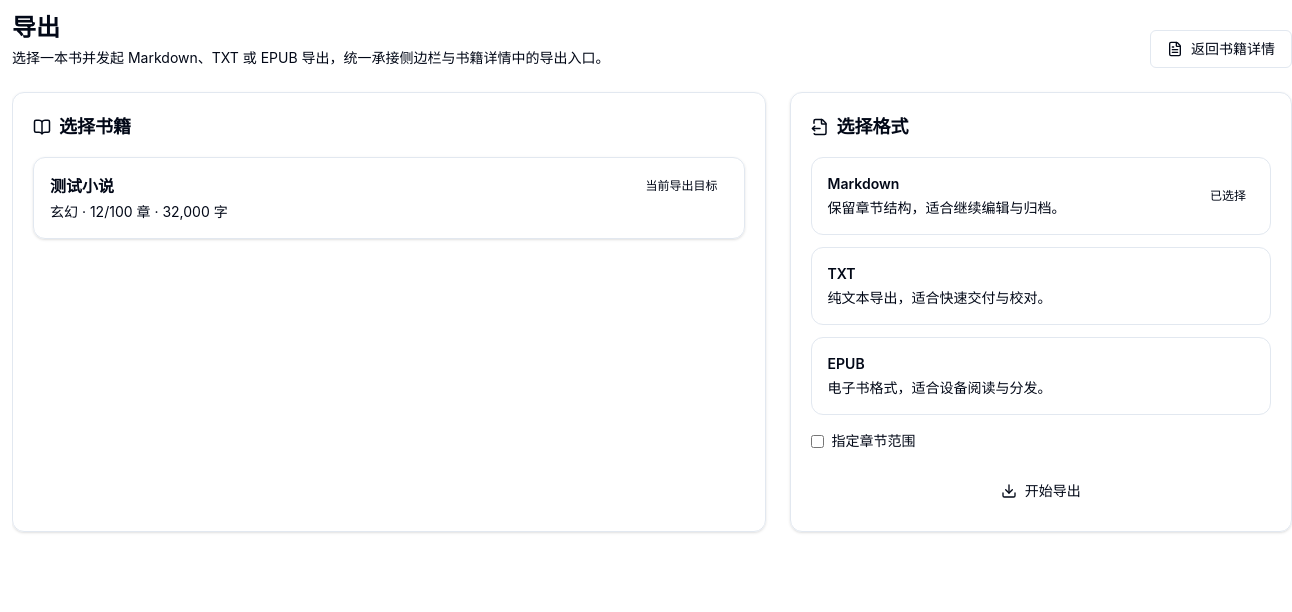
Test case: ExportView › starts export for the selected book and format
Check: the text "测试小说" is shown, box 50,176 -> 114,196
Click the button "TXT 纯文本导出，适合快速交付与校对。": [1041, 286] box 811,247 -> 1271,325
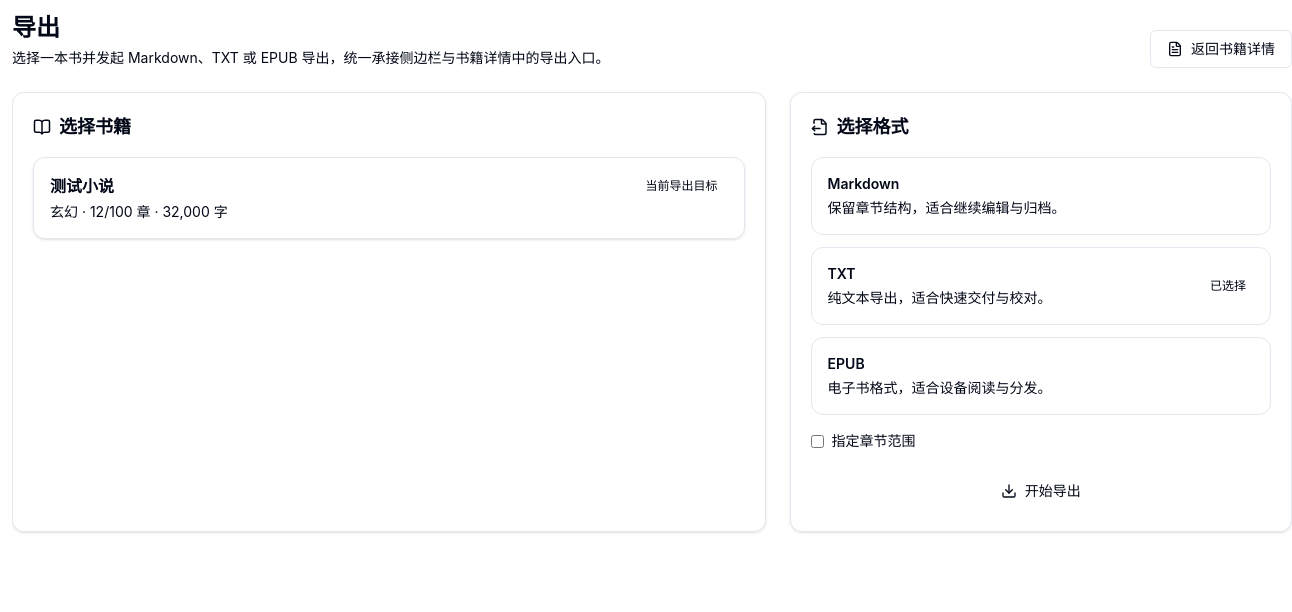
Click the button "开始导出": [1041, 491] box 811,471 -> 1271,511
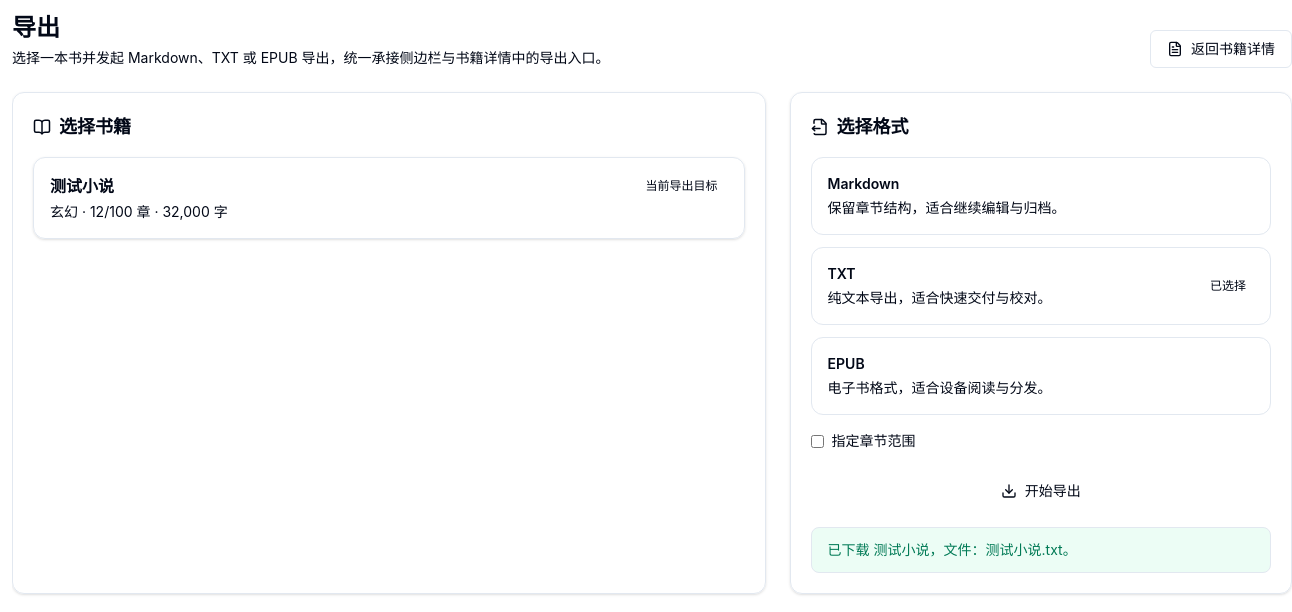
Check: the text "已下载 测试小说，文件：测试小说.txt。" is shown, box 811,527 -> 1271,573
